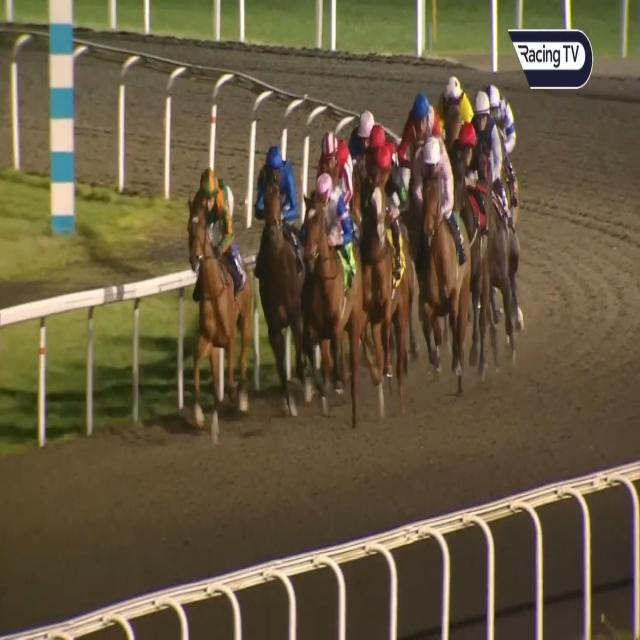horses-racing: (176, 177, 260, 383), (298, 175, 364, 392), (253, 142, 305, 371), (410, 136, 468, 329), (446, 122, 500, 317), (368, 151, 402, 370), (474, 85, 505, 194), (484, 84, 522, 166), (311, 124, 355, 190), (401, 88, 442, 152), (439, 67, 467, 121), (345, 105, 371, 152), (366, 120, 390, 157)
